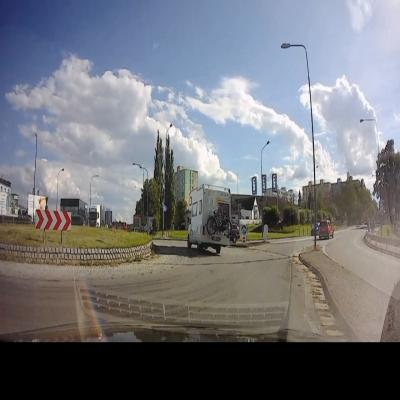clear-road: (80, 237, 311, 309), (0, 261, 47, 278)
